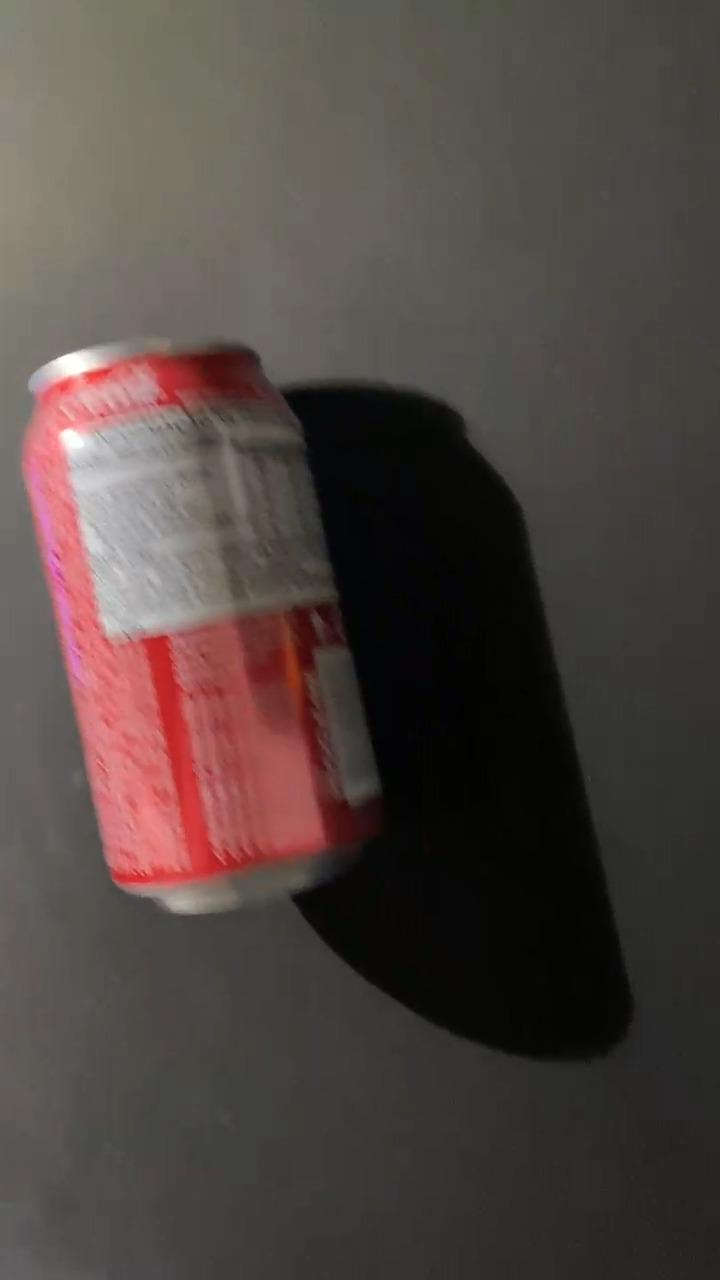coke: (18, 340, 387, 909)
